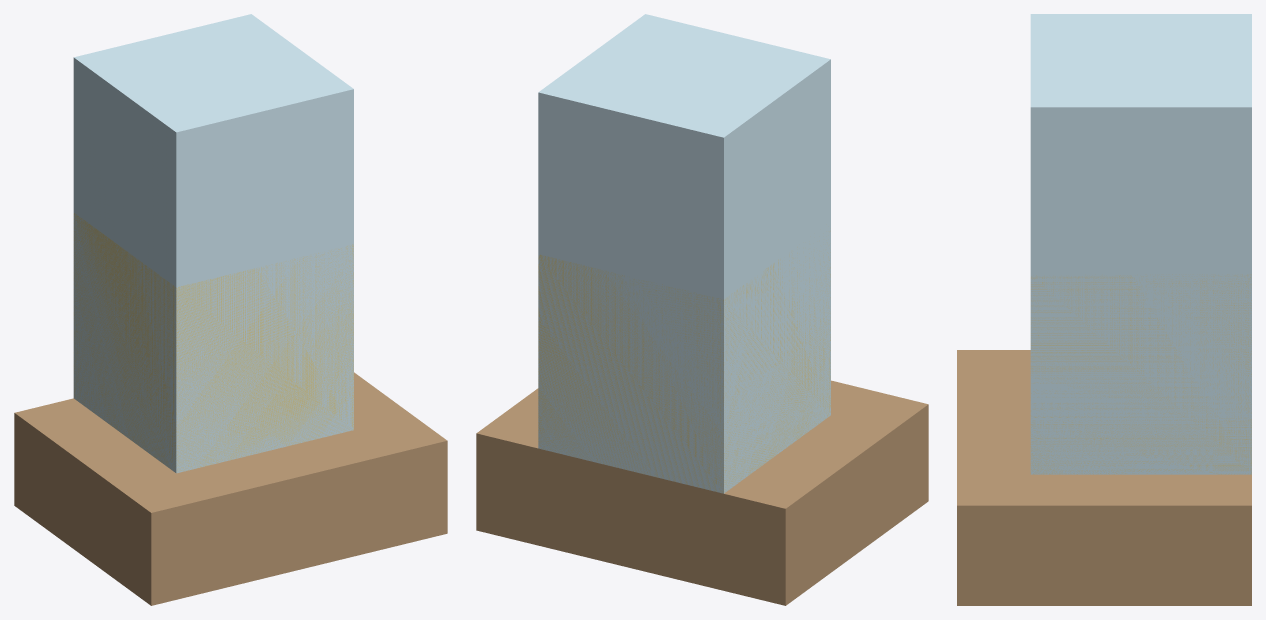
File: Prop_Pet_AMF_Feeder_V9.glb
3 views of the same model, side by side, from view 1: azimuth 30°, elevation 25°; view 2: azimuth 150°, elevation 25°; view 3: azimuth 270°, elevation 25° (orthographic). The views are drawn at different scales.
Parts seen in each view (by area): view 1: Prop_Pet_AMF_Feeder_V9; view 2: Prop_Pet_AMF_Feeder_V9; view 3: Prop_Pet_AMF_Feeder_V9.
Boxes of the visible parts, bbox=[...] form: Prop_Pet_AMF_Feeder_V9: bbox=[14, 14, 447, 605]; Prop_Pet_AMF_Feeder_V9: bbox=[476, 14, 928, 605]; Prop_Pet_AMF_Feeder_V9: bbox=[957, 14, 1251, 605].
Size of the model in its own units: 0.5 by 0.6999 by 0.4.
